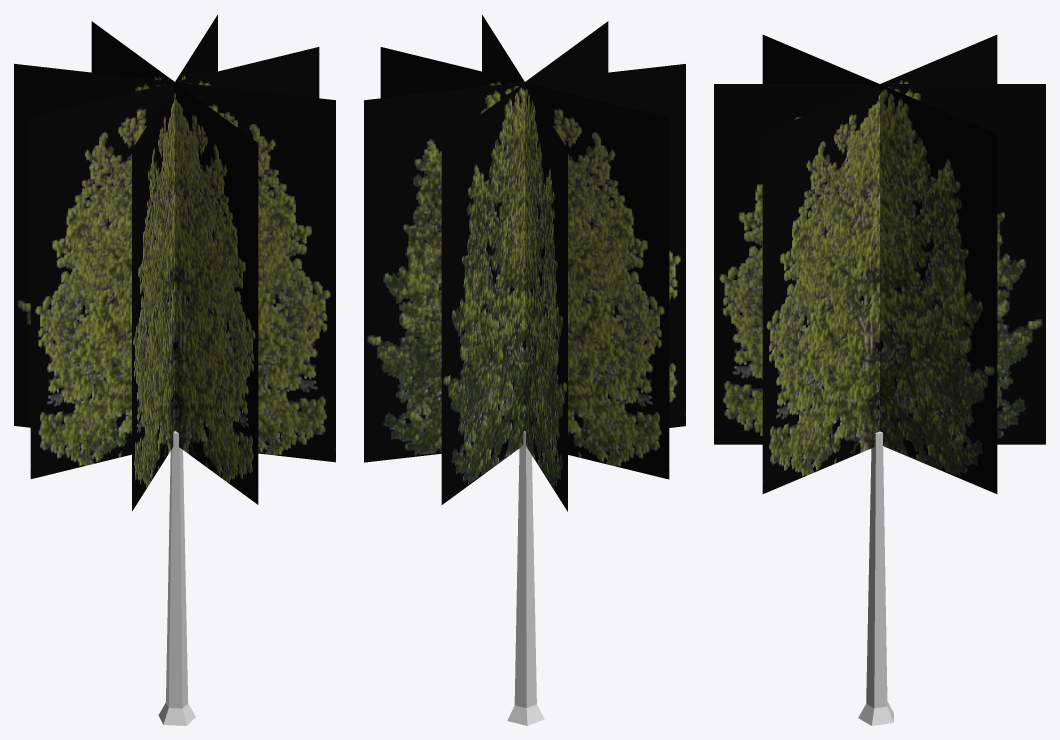
Rendered from Tree.fbx.
3 renders of one model, left to right at view 1: azimuth 30°, elevation 25°; view 2: azimuth 150°, elevation 25°; view 3: azimuth 270°, elevation 25°, orthographic.
Visible parts, largest first — view 1: Tree; view 2: Tree; view 3: Tree.
Part boxes in pixels (box(x1,y1,x2,y2)): Tree: box(14, 14, 335, 725); Tree: box(364, 14, 685, 725); Tree: box(714, 35, 1045, 725).
Size of the model in its own units: 300 by 300 by 632.
Materials: 2 (1 with a texture image).
